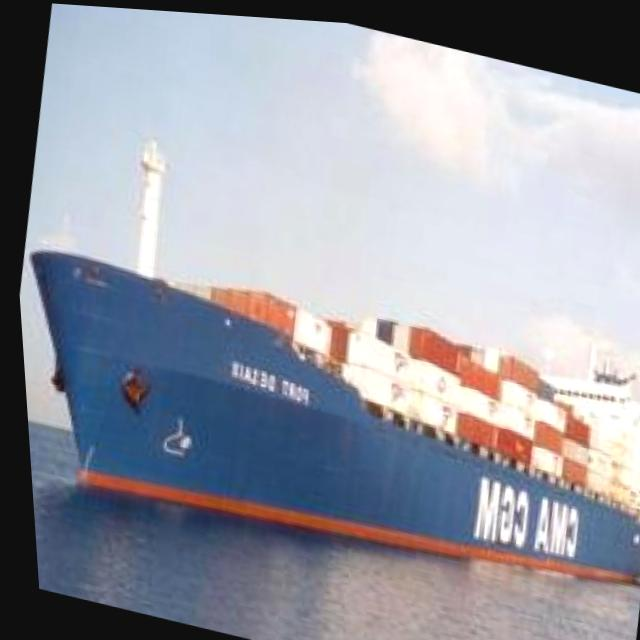ship2: (24, 136, 640, 578)
